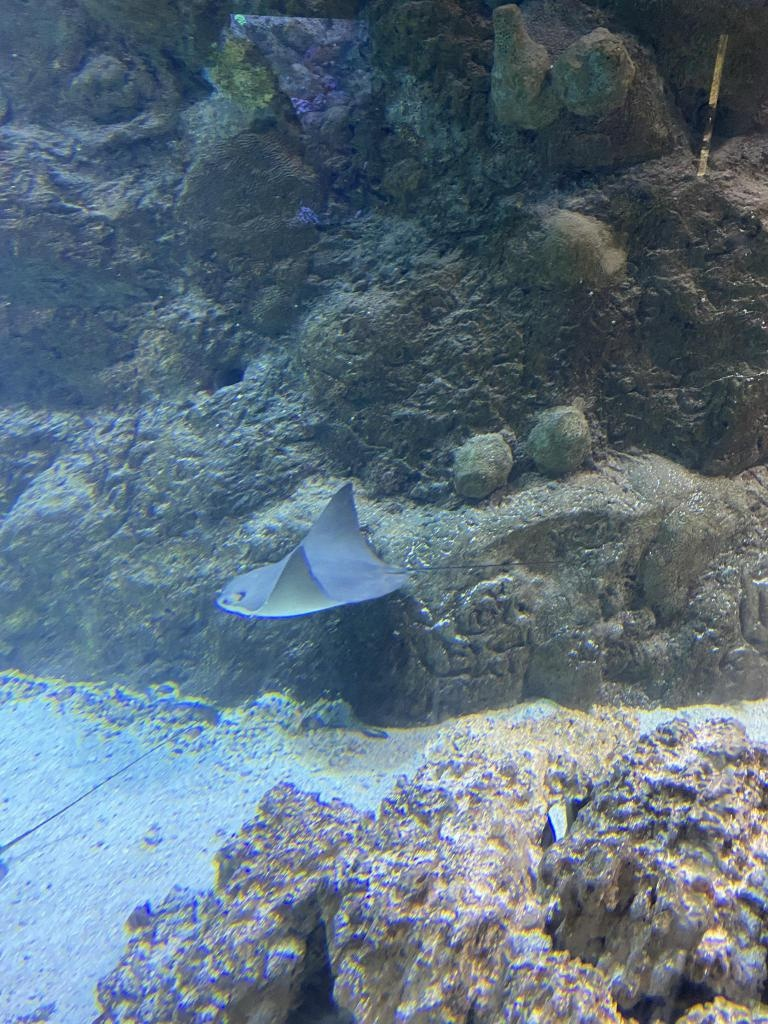stingray: (216, 480, 412, 618)
